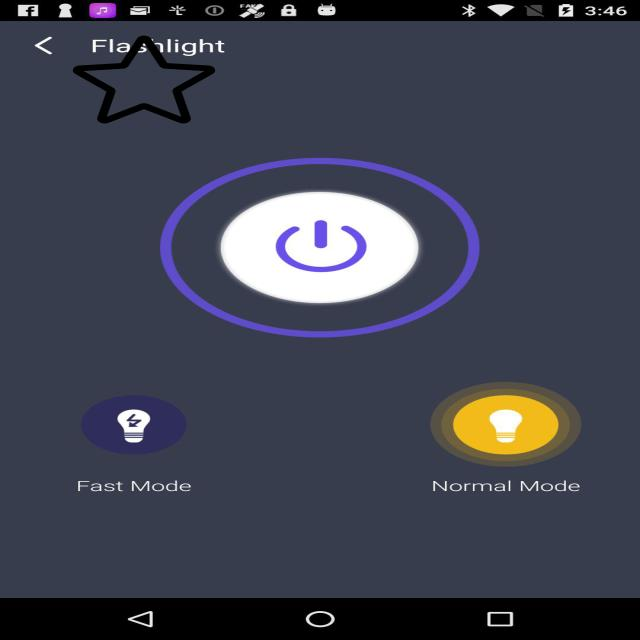forced continuity: (73, 34, 215, 125)
